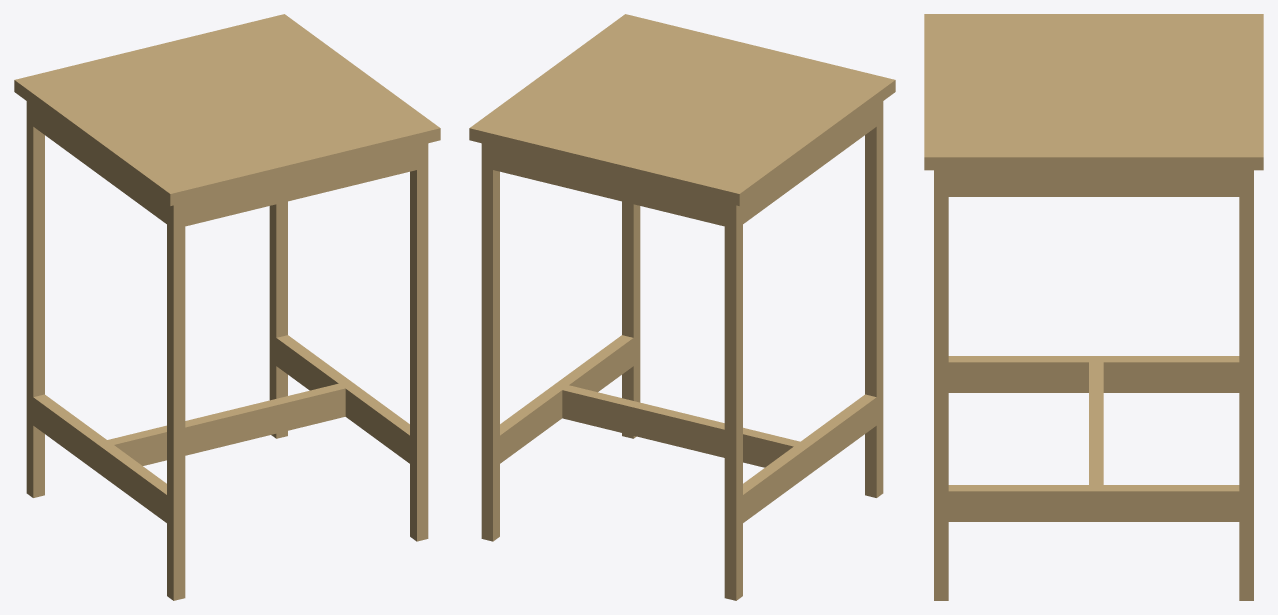
The picture shows the model from 3 angles, left to right: view 1: azimuth 30°, elevation 25°; view 2: azimuth 150°, elevation 25°; view 3: azimuth 270°, elevation 25°; orthographic projection. The views are drawn at different scales.
Visible parts, largest first — view 1: Mesh1 BJ_RKUDDEN_bar1 Model; view 2: Mesh1 BJ_RKUDDEN_bar1 Model; view 3: Mesh1 BJ_RKUDDEN_bar1 Model.
Boxes of the visible parts, x1,y1,x2,y2 form: Mesh1 BJ_RKUDDEN_bar1 Model: [14, 14, 440, 600]; Mesh1 BJ_RKUDDEN_bar1 Model: [469, 14, 895, 600]; Mesh1 BJ_RKUDDEN_bar1 Model: [924, 14, 1263, 600].
Bounding box in the file's own units: 0.4925 × 0.7176 × 0.4925.
